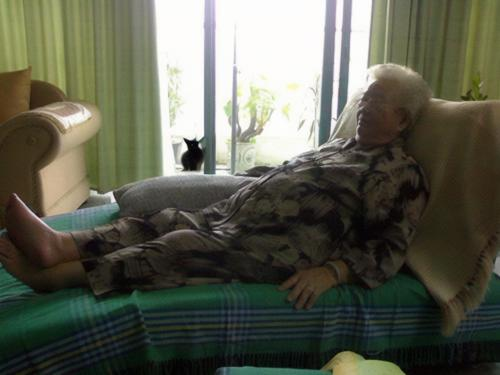cat: (181, 138, 206, 170)
person: (1, 65, 434, 312)
person/foot: (5, 193, 63, 270), (1, 232, 52, 294)
person/hand: (279, 268, 336, 311)
person/head: (355, 65, 429, 146)
pottedplant: (224, 72, 298, 178), (298, 75, 320, 150), (167, 54, 181, 168), (457, 71, 494, 101)
sofa: (2, 67, 103, 217)
